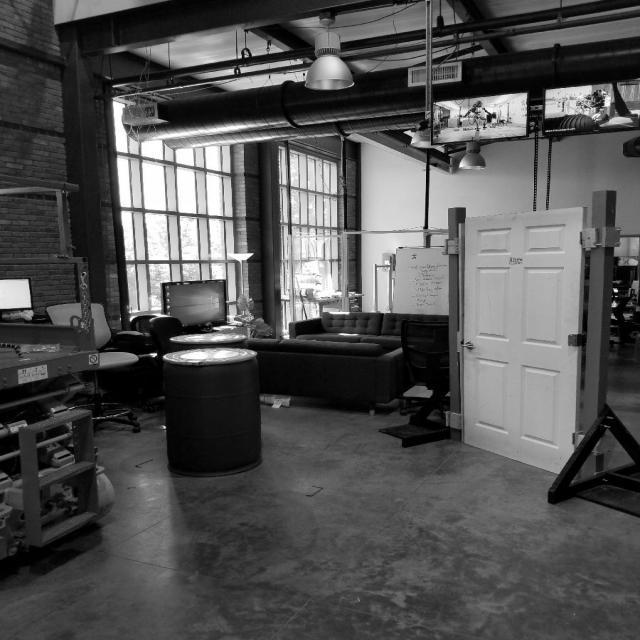door: (460, 203, 590, 482), (458, 342, 481, 352)
